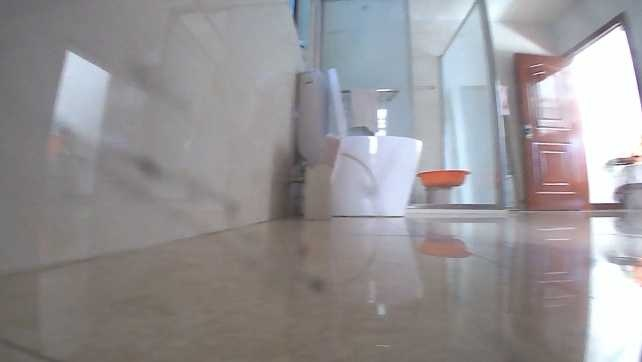toilet: (293, 65, 426, 220)
